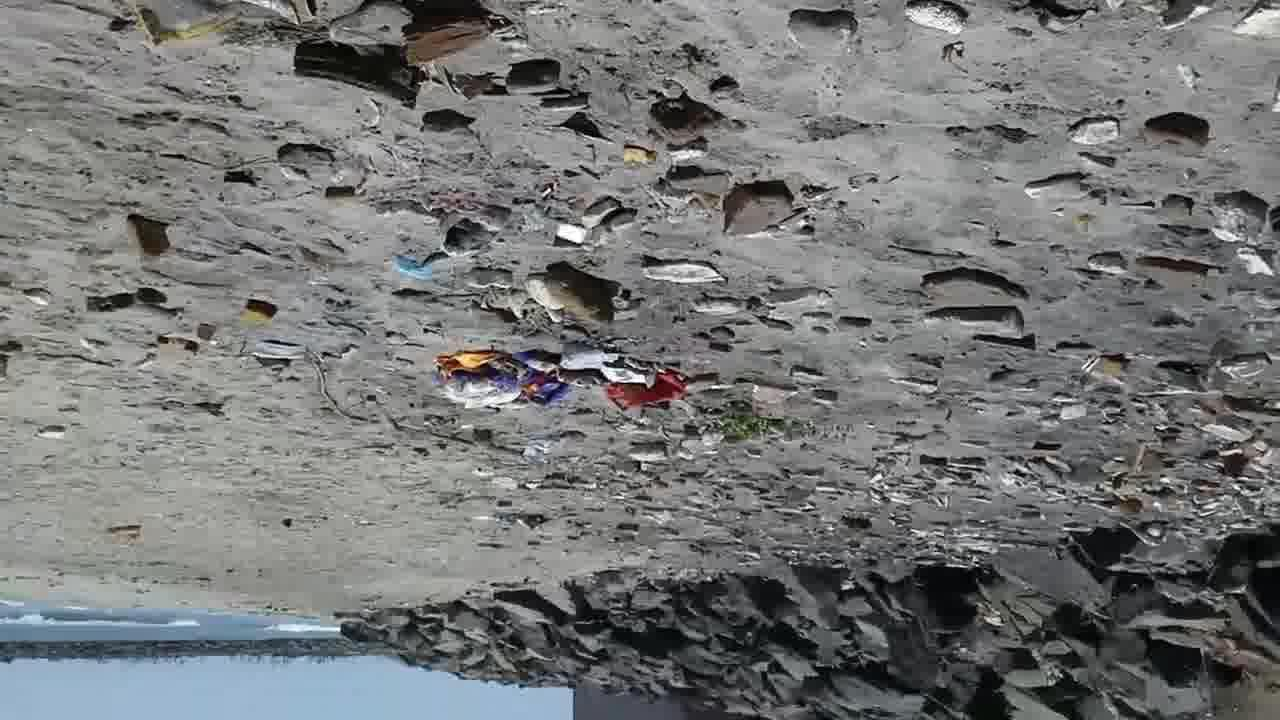large collection of objects: (995, 457, 1146, 518), (496, 514, 551, 530)
obj: (432, 335, 685, 412), (107, 1, 319, 45), (290, 43, 426, 105), (380, 192, 510, 256), (856, 436, 946, 509), (702, 396, 811, 443), (413, 12, 498, 72), (647, 92, 736, 143), (719, 186, 794, 243), (542, 273, 610, 327), (562, 195, 634, 242), (119, 218, 176, 266), (1144, 116, 1210, 156), (638, 260, 730, 287), (1068, 115, 1124, 148), (1236, 246, 1275, 277), (242, 298, 276, 330), (622, 142, 664, 166), (391, 260, 438, 280), (255, 340, 304, 359), (1088, 251, 1124, 275), (1086, 358, 1126, 379), (110, 523, 146, 546), (630, 442, 669, 463), (22, 290, 54, 305), (40, 424, 64, 438), (281, 518, 295, 528)
sand/background: (0, 522, 1280, 719)
